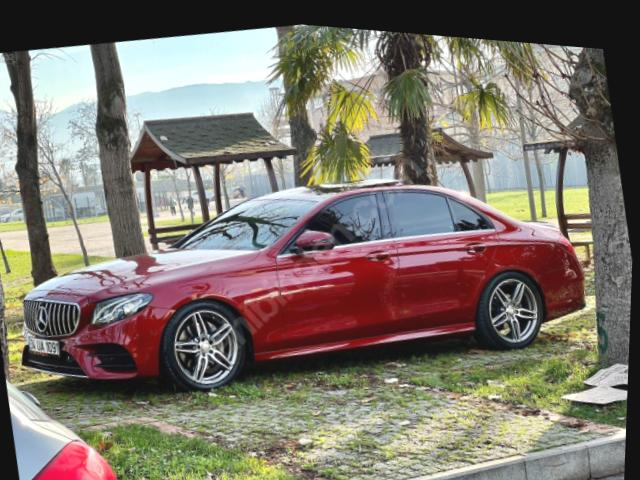plaka: (26, 332, 58, 353)
